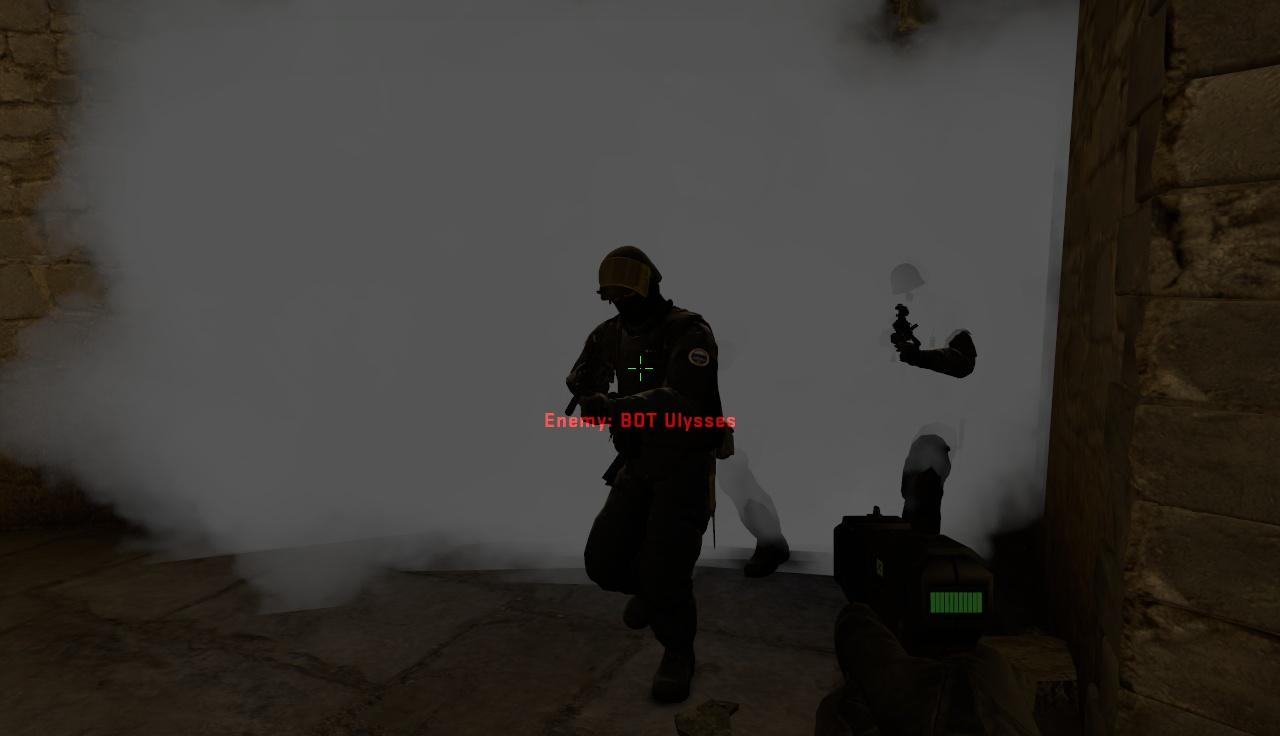ct: (576, 252, 726, 701), (869, 261, 978, 535)
cthead: (599, 247, 662, 322), (892, 264, 925, 308)
pistol: (807, 505, 1097, 736)
